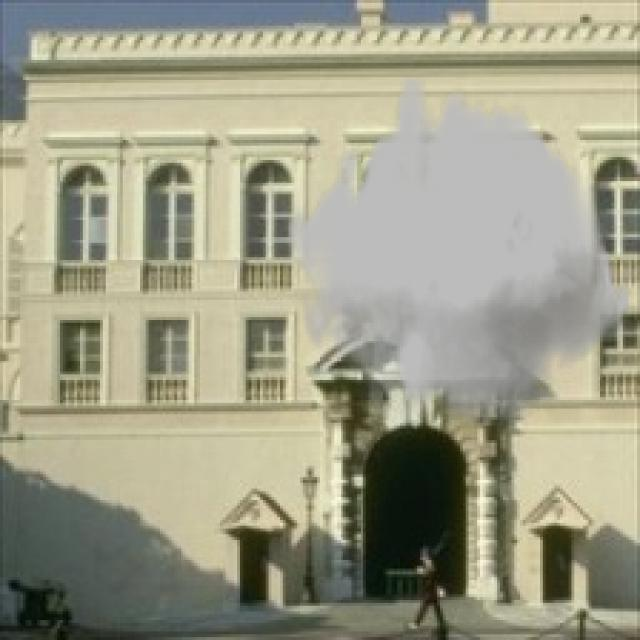smoke: (286, 77, 631, 426)
